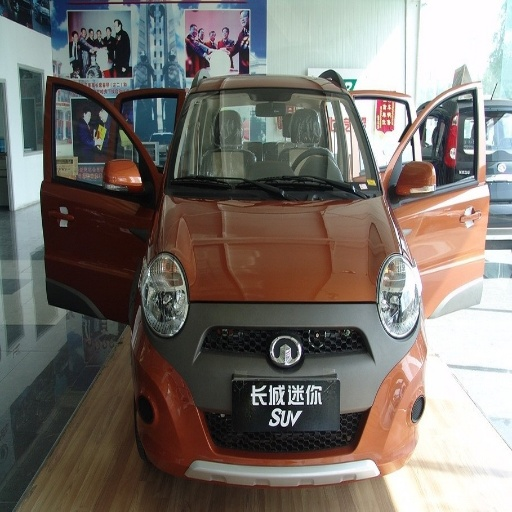front_bumper: (133, 302, 416, 485)
front_left_light: (379, 252, 422, 338)
front_right_door: (74, 97, 154, 269)
front_right_light: (142, 260, 189, 336)
hood: (173, 193, 392, 302)
